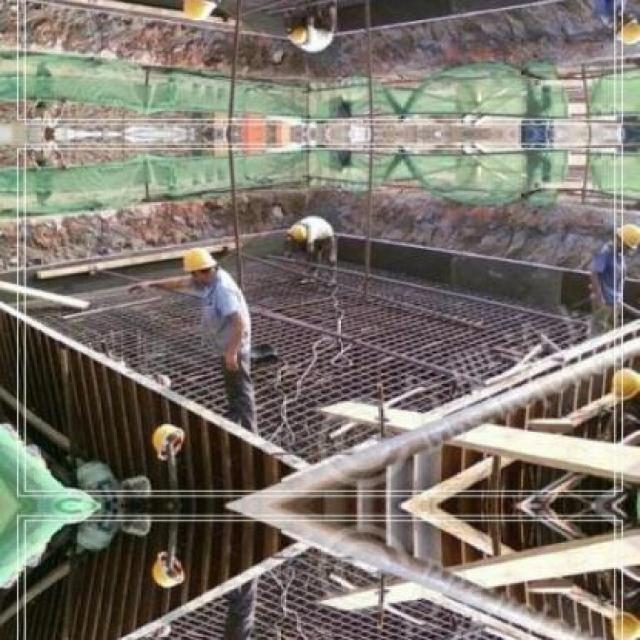helmet: (176, 246, 218, 283), (608, 364, 638, 406), (608, 604, 638, 637), (176, 0, 218, 23), (612, 218, 638, 252), (612, 16, 638, 50)
